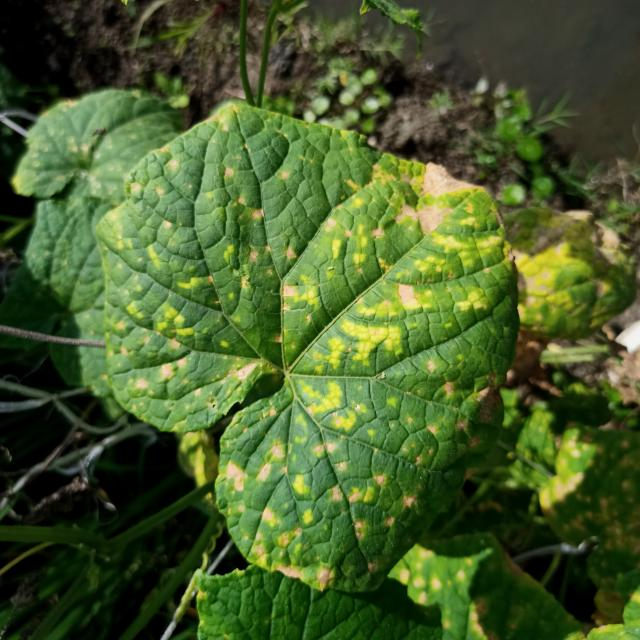disease_cucumber: (100, 139, 519, 586)
